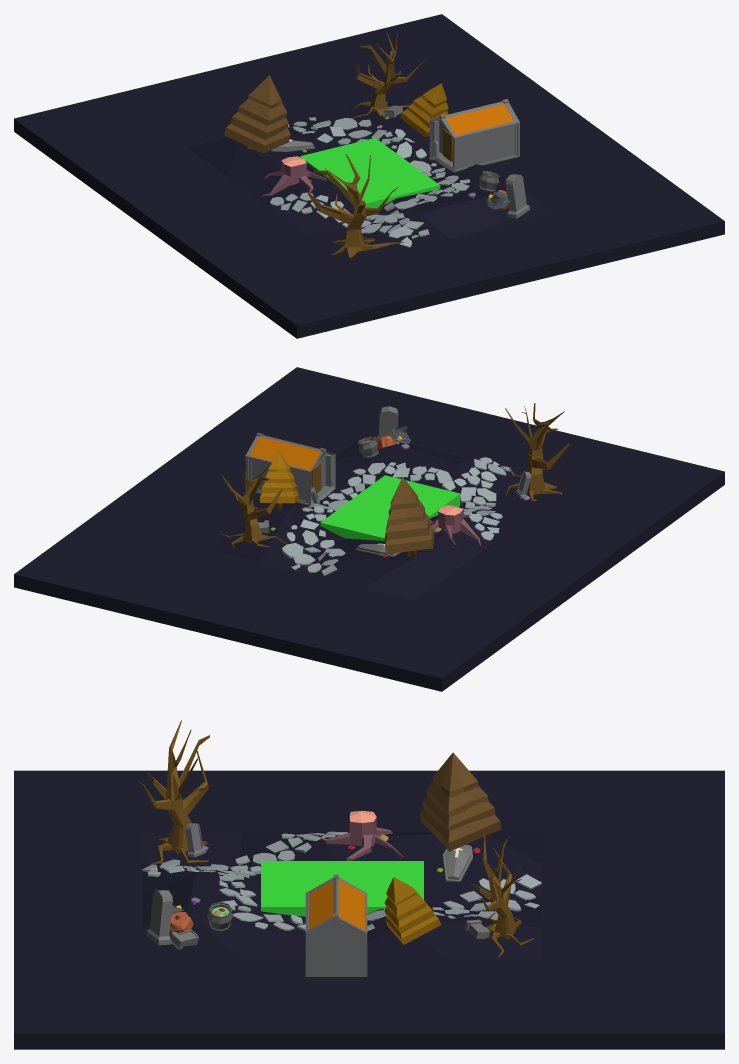
File: HalloweenBackground.fbx
3 views of the same model, one above another, from view 1: azimuth 30°, elevation 25°; view 2: azimuth 150°, elevation 25°; view 3: azimuth 270°, elevation 25° (orthographic). The views are drawn at different scales.
Parts seen in each view (by area): view 1: Ground, PathWalk, Mausoleum, Lawn, Tree, Tree2, Tree4, Tree3, Stump, GraveStone4; view 2: Ground, PathWalk, Lawn, Mausoleum, Tree, Tree2, Tree4, Tree3, Stump, GraveStone4; view 3: Ground, Mausoleum, Lawn, PathWalk, Tree, Tree2, Tree3, Tree4, Stump, GraveStone4, Tomb, Cauldron.
Part boxes in pixels (x1,y1,x2,y2): Ground: (14, 14, 724, 338); PathWalk: (270, 117, 470, 247); Mausoleum: (429, 99, 519, 172); Lawn: (300, 138, 440, 208); Tree: (224, 75, 290, 153); Tree2: (307, 154, 404, 257); Tree4: (352, 32, 426, 117); Tree3: (399, 83, 448, 137); Stump: (262, 156, 326, 195); GraveStone4: (505, 174, 529, 218); Ground: (14, 367, 724, 691); PathWalk: (281, 457, 510, 575); Lawn: (320, 475, 460, 541); Mausoleum: (245, 433, 335, 505); Tree: (384, 477, 434, 556); Tree2: (505, 403, 569, 501); Tree4: (220, 463, 286, 549); Tree3: (260, 450, 298, 511); Stump: (429, 505, 480, 545); GraveStone4: (376, 406, 399, 444); Ground: (14, 770, 724, 1049); Mausoleum: (305, 874, 367, 976); Lawn: (261, 861, 423, 916); PathWalk: (142, 831, 541, 931); Tree: (420, 752, 501, 851); Tree2: (138, 720, 211, 864); Tree3: (384, 877, 440, 944); Tree4: (470, 833, 533, 957); Stump: (320, 810, 403, 860); GraveStone4: (146, 890, 172, 945); Tomb: (443, 844, 472, 881); Cauldron: (207, 901, 233, 931).
Bounding box in the file's own units: 5335 × 1243 × 6108.
